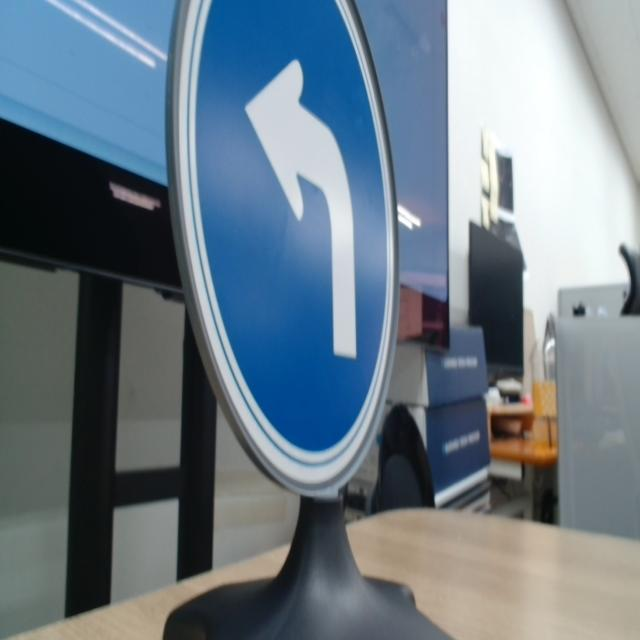left_direction: (161, 0, 401, 495)
